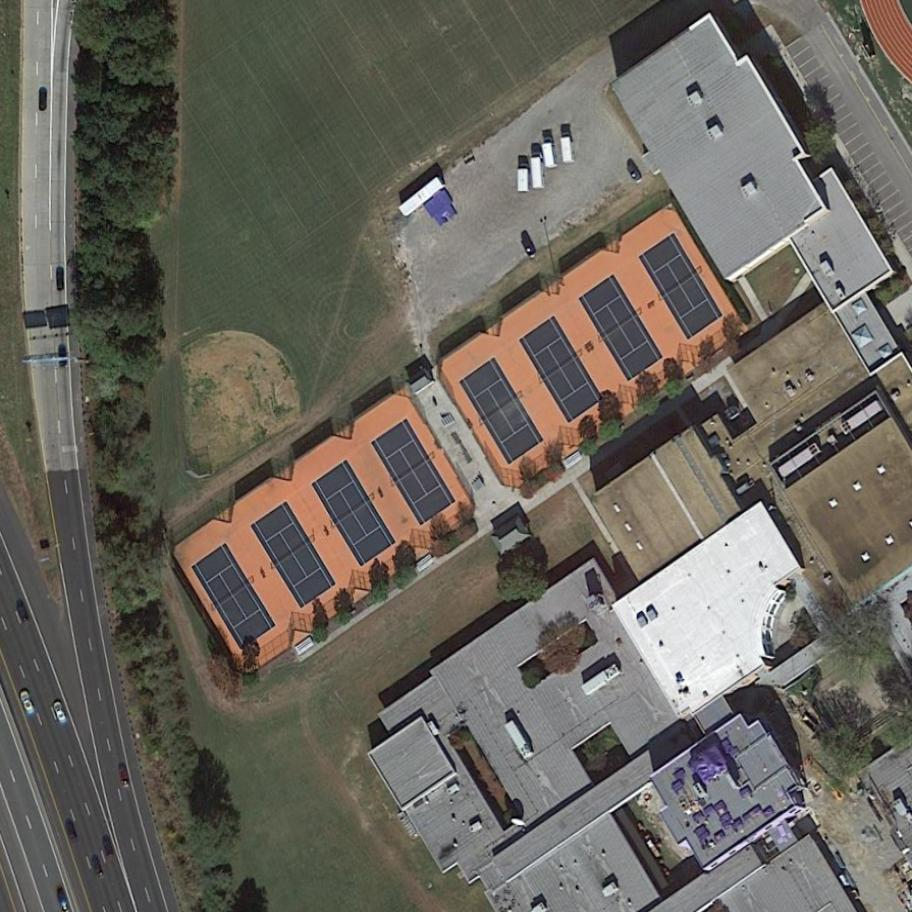large-vehicle: (500, 719, 538, 765), (579, 663, 624, 698), (559, 122, 577, 166), (530, 141, 545, 191), (542, 128, 558, 169), (516, 155, 531, 196)
small-vehicle: (516, 230, 541, 263), (623, 157, 646, 187), (13, 597, 35, 626), (50, 697, 69, 727), (18, 689, 37, 717), (87, 852, 106, 880), (116, 761, 132, 792), (100, 833, 118, 860), (64, 819, 81, 844), (55, 264, 67, 295), (36, 86, 49, 113), (57, 345, 68, 371)
